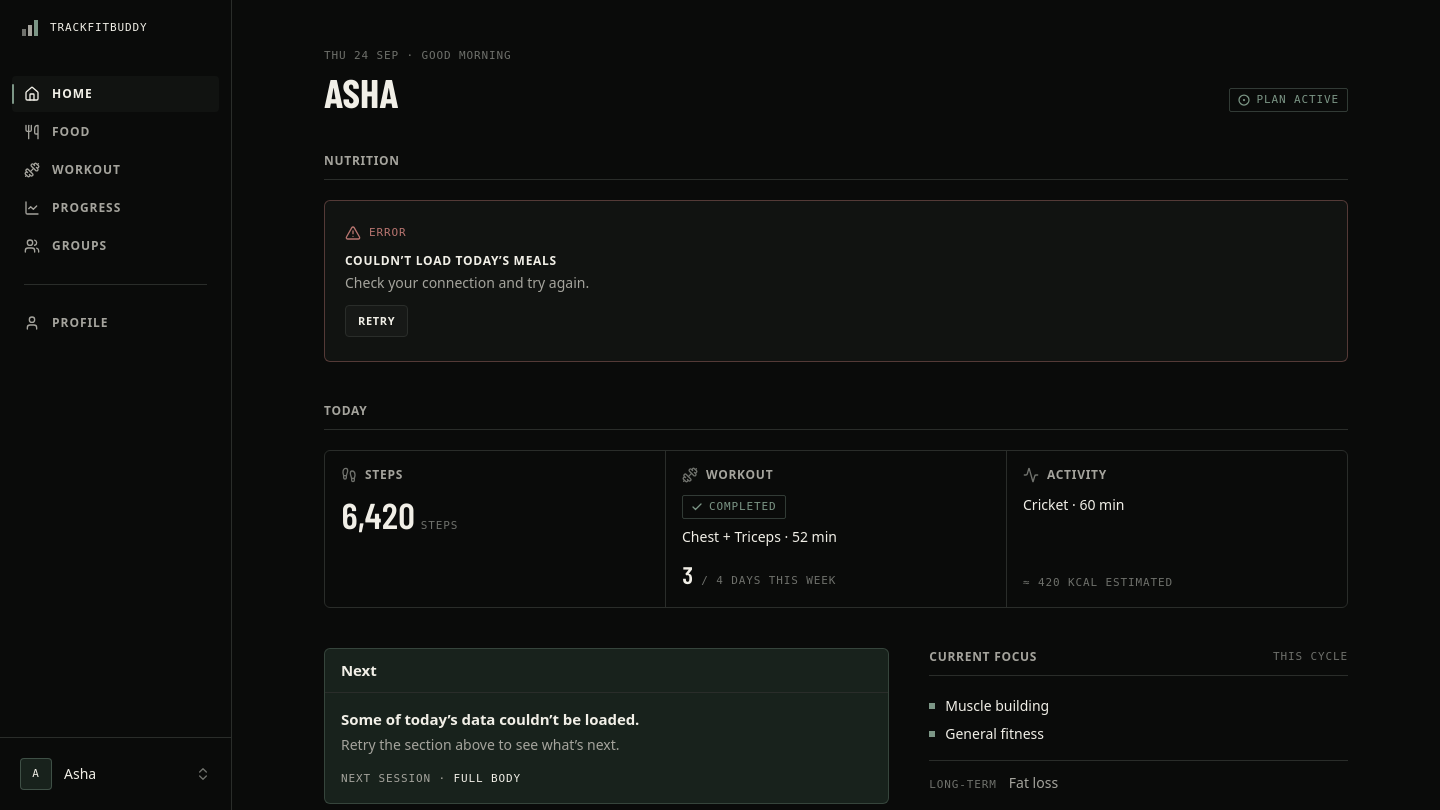
loading and errors › isolates a failed section and retries it
expect the heading "Asha" is shown: met, box 324,68 -> 398,116
expect the text "Couldn’t load today’s meals" is shown: met, box 345,253 -> 589,269
Click the button "Retry" at (377, 321), box 345,305 -> 408,337
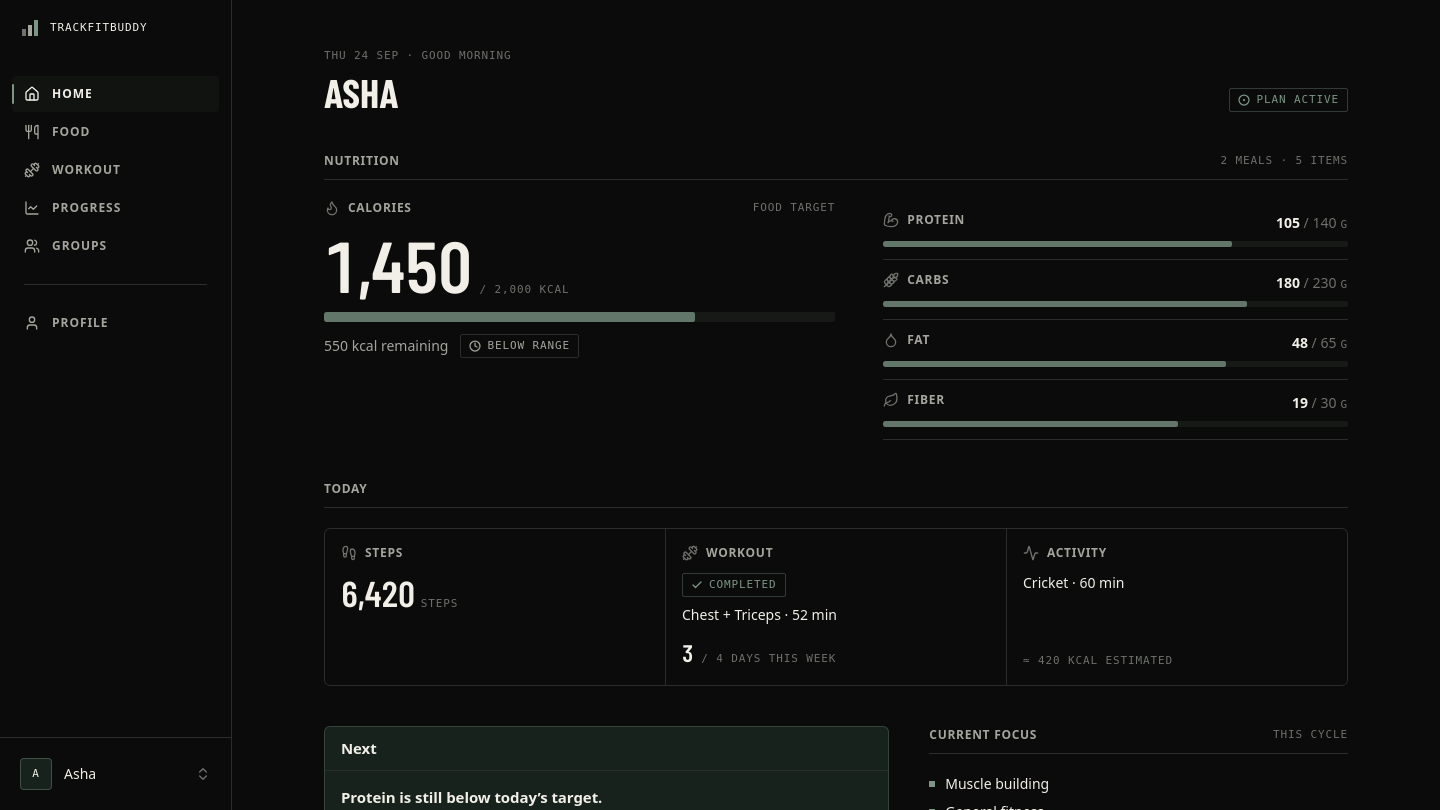
expect the text "550 kcal remaining" is shown: met, box 324,336 -> 448,356
